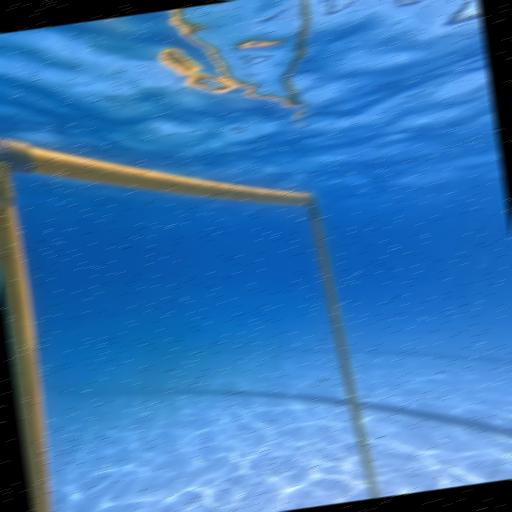gate: (0, 93, 379, 512)
